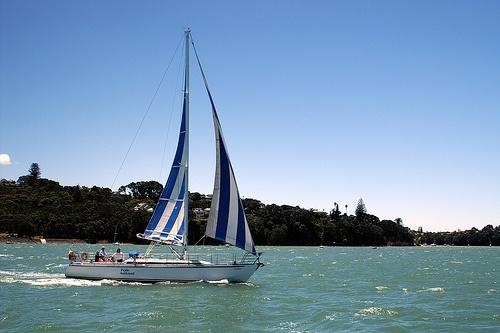boat: (60, 19, 273, 283)
